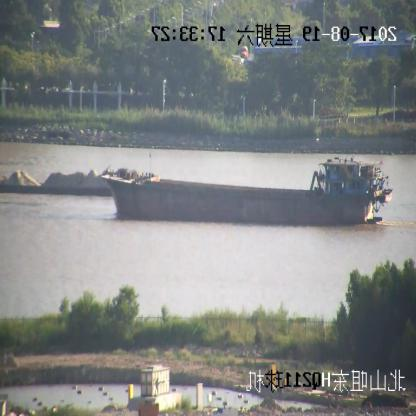Bulk Carrier: (102, 160, 394, 225)
